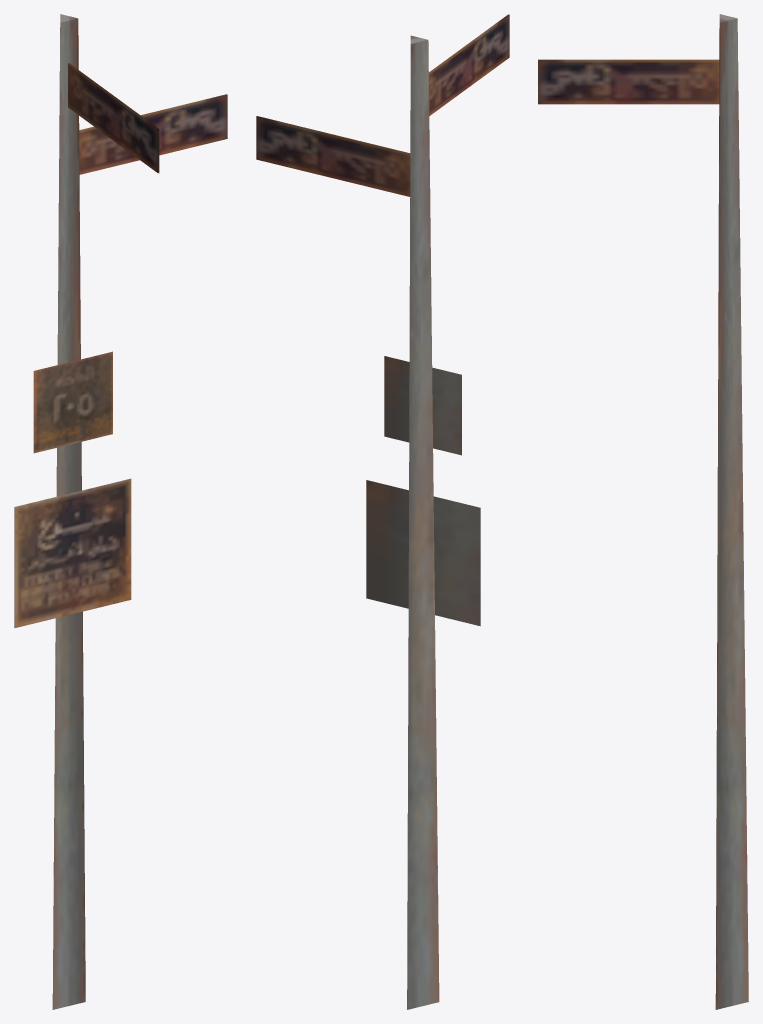
File: Environment - Vegetation - Street Sign 03 - PMSign03.glb
3 views of the same model, side by side, from view 1: azimuth 30°, elevation 25°; view 2: azimuth 150°, elevation 25°; view 3: azimuth 270°, elevation 25° (orthographic). The views are drawn at different scales.
Visible parts, largest first — view 1: PMSIGN03; view 2: PMSIGN03; view 3: PMSIGN03.
Part boxes in pixels (x1,y1,x2,y2): PMSIGN03: (14, 14, 227, 1009); PMSIGN03: (256, 14, 509, 1009); PMSIGN03: (538, 14, 748, 1009).
Bounding box in the file's own units: 7.23 × 30.76 × 5.97.
1 material, 1 textured.
